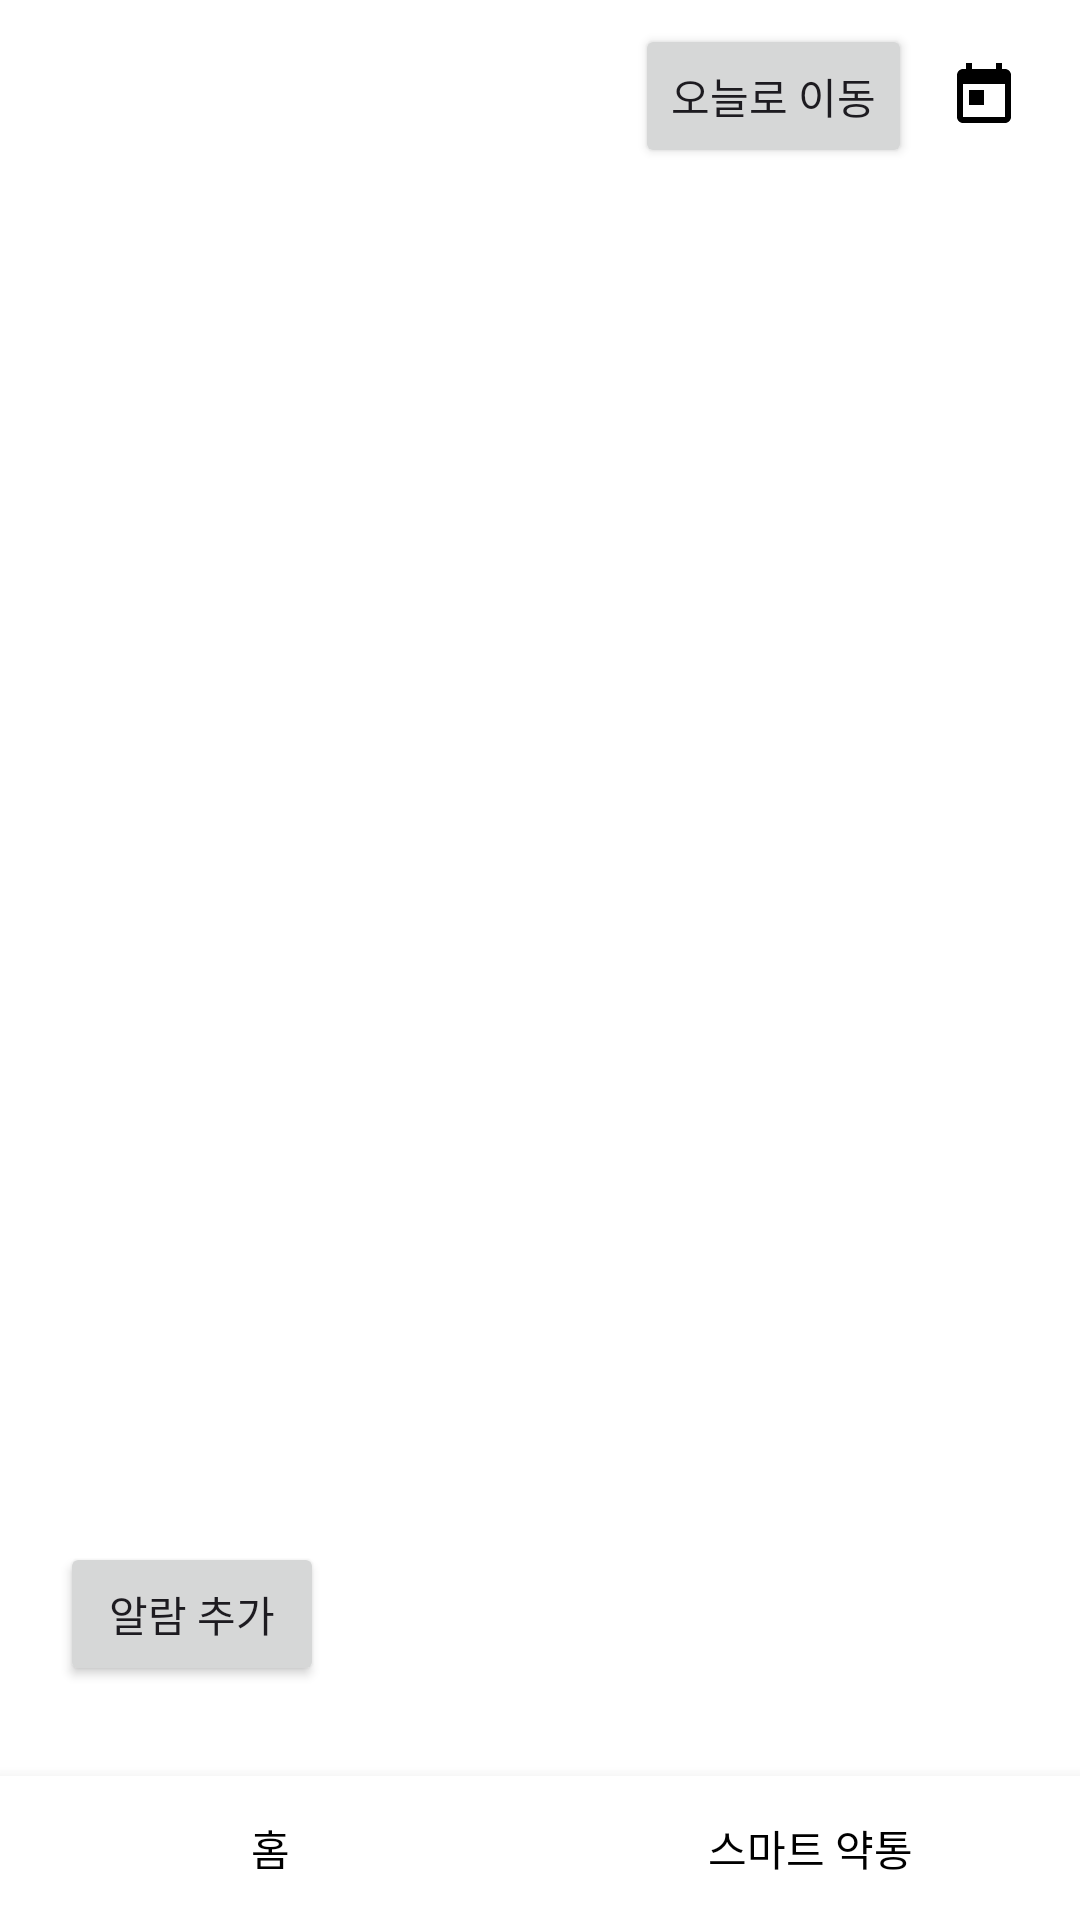

Screen size 1080 x 1920. Icon name, then its box in pixels as [x1, y1, x2, y2]:
Calendar: [957, 63, 1011, 123]
